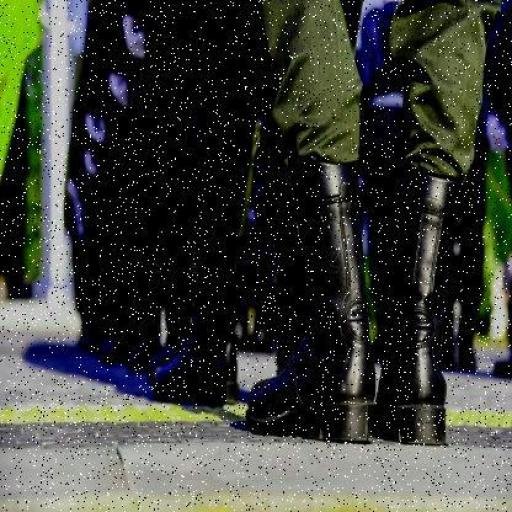safety_shoe: (249, 175, 381, 444), (385, 164, 458, 448), (178, 228, 242, 405), (157, 252, 191, 374), (136, 261, 157, 368)
